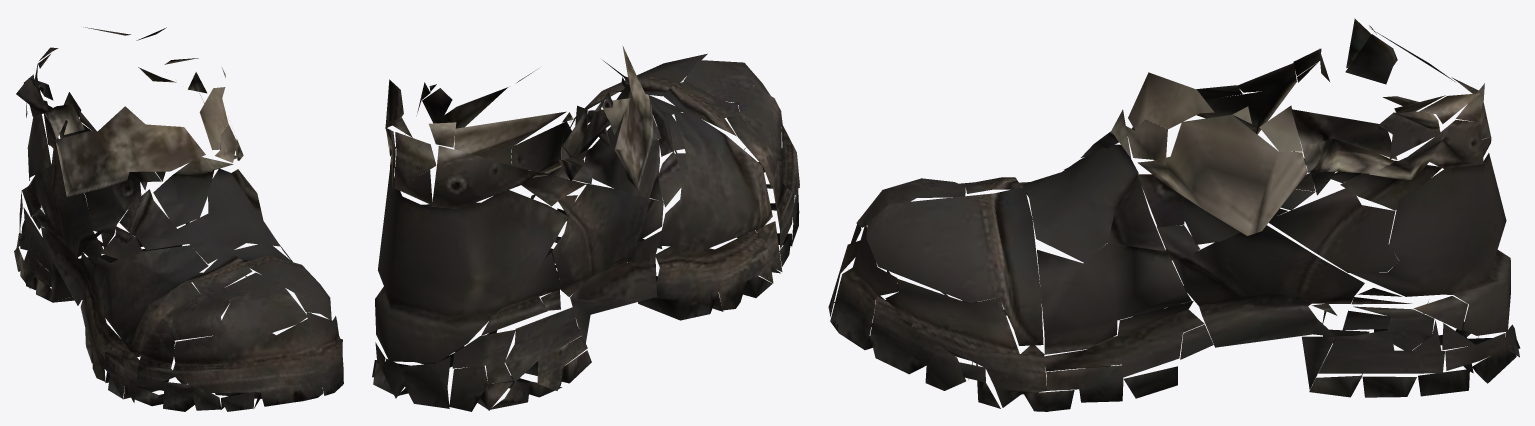
File: a_ward_boots_foot.glb
3 views of the same model, side by side, from view 1: azimuth 30°, elevation 25°; view 2: azimuth 150°, elevation 25°; view 3: azimuth 270°, elevation 25° (orthographic). The views are drawn at different scales.
Parts seen in each view (by area): view 1: tripo_node_66716165-d177-4658-8bea-9631f10389fa; view 2: tripo_node_66716165-d177-4658-8bea-9631f10389fa; view 3: tripo_node_66716165-d177-4658-8bea-9631f10389fa.
Boxes of the visible parts, x1,y1,x2,y2 form: tripo_node_66716165-d177-4658-8bea-9631f10389fa: [14, 27, 343, 411]; tripo_node_66716165-d177-4658-8bea-9631f10389fa: [372, 46, 799, 411]; tripo_node_66716165-d177-4658-8bea-9631f10389fa: [828, 18, 1520, 411].
Bounding box in the file's own units: 0.1538 × 0.1788 × 0.3685.
1 material, 1 textured.
